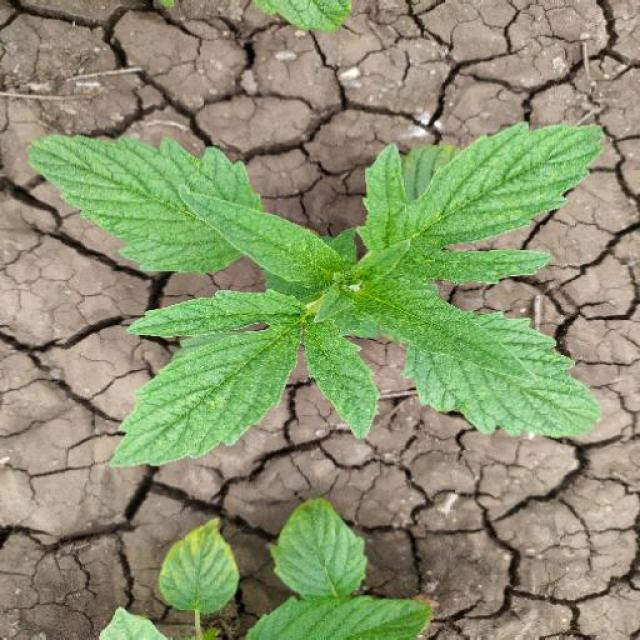crop: (39, 96, 604, 484)
